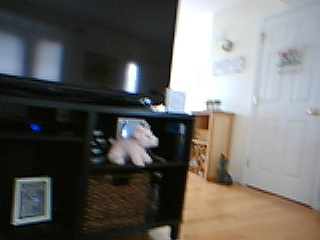piggy: (106, 122, 160, 168)
